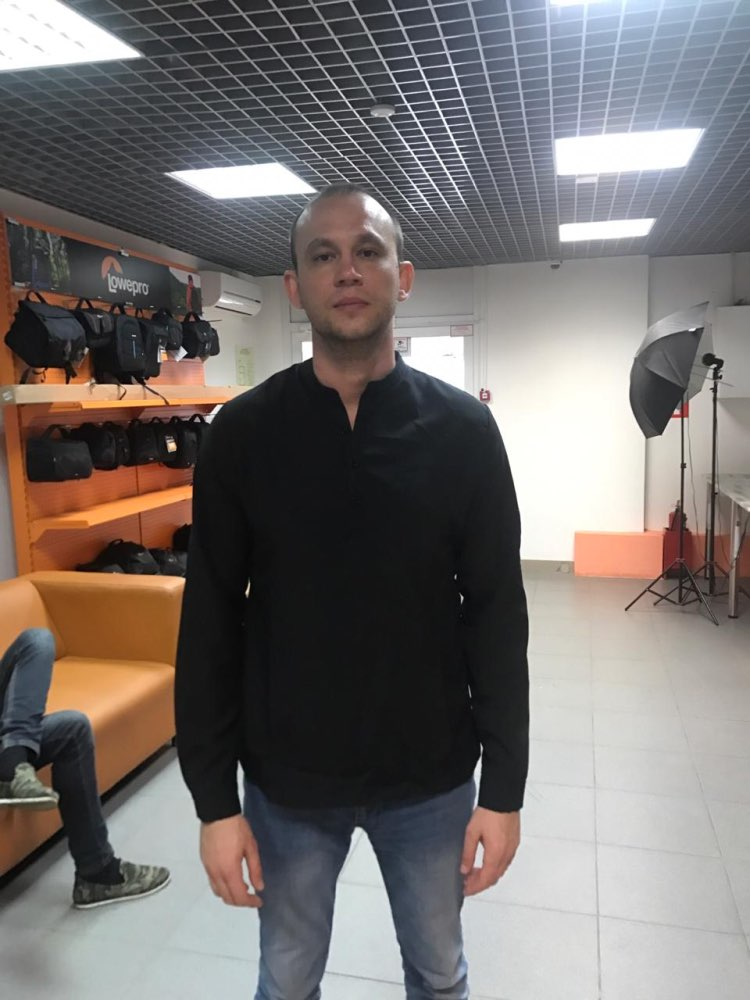shirts: (194, 359, 528, 818)
